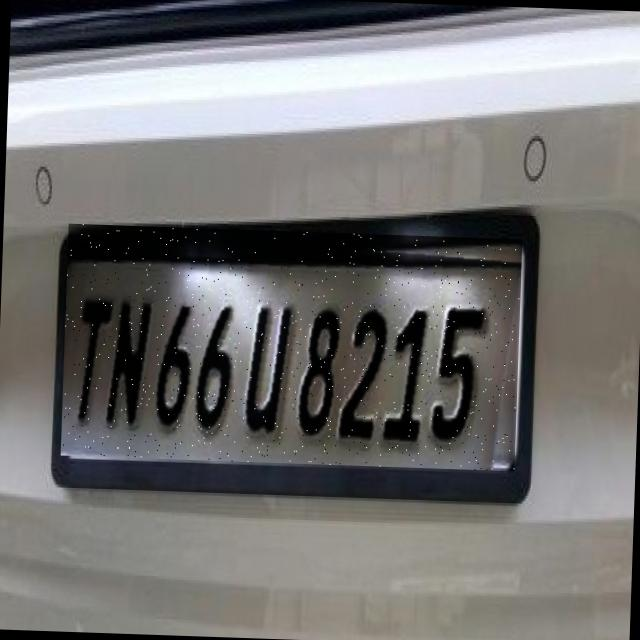Plate: (61, 224, 523, 472)
